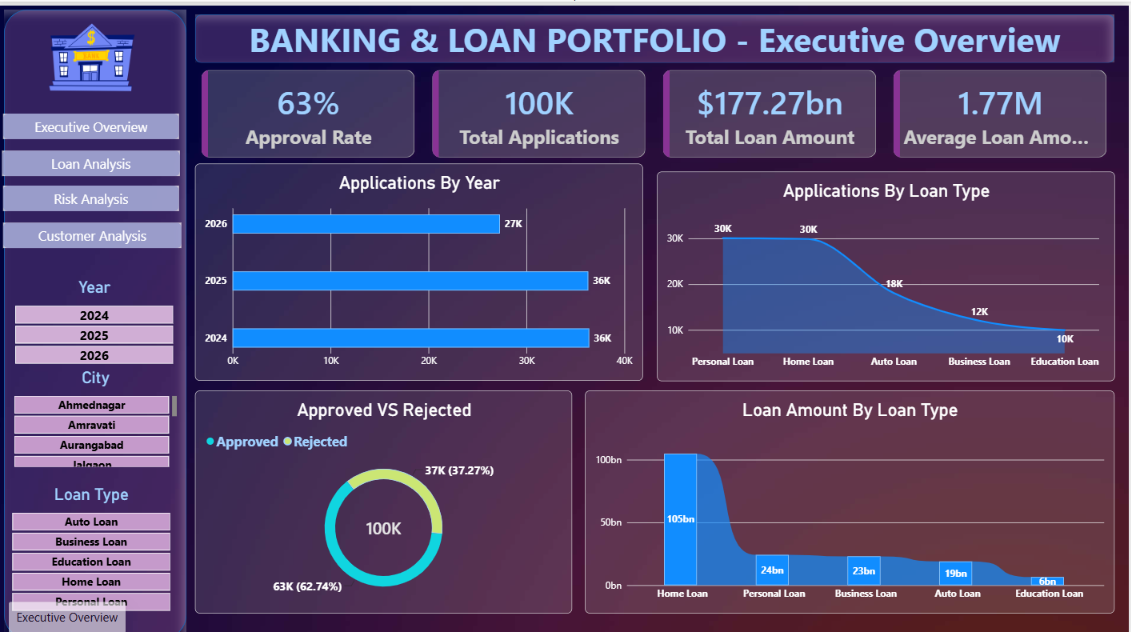

Layout of this report page (visuals, bound fields, positions):
{"tool":"powerbi","page":{"name":"Executive Overview","canvas":[1920,1080],"ordinal":0},"visuals":[{"type":"cardVisual","fields":{"Data":["banking_loan_db loan_applications.Approval Rate","banking_loan_db loan_applications.Total Applications","banking_loan_db loan_applications.Total Loan Amount","banking_loan_db loan_applications.Average Loan Amount"]},"box":[336.8,97.8,1558.7,170.7],"z":0},{"type":"shape","box":[13.3,6.7,309.3,1066.5],"z":1000},{"type":"barChart","title":"Applications  By Year","fields":{"Category":["banking_loan_db loan_applications.application_Year"],"Y":["banking_loan_db loan_applications.Total Applications"]},"box":[337.8,267.6,759,368.1],"z":2000},{"type":"ribbonChart","title":"Loan Amount By Loan Type ","fields":{"Category":["banking_loan_db loan_applications.loan_type"],"Y":["banking_loan_db loan_applications.Total Loan Amount"]},"box":[998.1,652.8,897.6,377.6],"z":3000},{"type":"donutChart","title":"Approved VS  Rejected ","fields":{"Category":["banking_loan_db loan_applications.approval_status"],"Y":["banking_loan_db loan_applications.Total Applications"]},"box":[337.8,652.8,639.5,377.6],"z":4000},{"type":"areaChart","title":"Applications  By Loan Type","fields":{"Category":["banking_loan_db loan_applications.loan_type"],"Y":["banking_loan_db loan_applications.Total Applications"]},"box":[1119.6,280.8,776.1,354.9],"z":5000},{"type":"listSlicer","title":"Loan Type ","fields":{"Values":["banking_loan_db loan_applications.loan_type"]},"box":[12.5,797.5,299.8,261.9],"z":6000},{"type":"listSlicer","fields":{"Values":["banking_loan_db loan_applications.application_date.Variation.Date Hierarchy.Year"]},"box":[17.5,447.5,299.8,187.9],"z":7000},{"type":"listSlicer","title":"City","fields":{"Values":["banking_loan_db loan_applications.city"]},"box":[15,600,307.4,197.4],"z":8000},{"type":"actionButton","box":[10,245,301.7,43.3],"z":9000},{"type":"actionButton","box":[12.5,367.5,302.6,43.2],"z":10000},{"type":"actionButton","box":[12.5,305,298.3,43.3],"z":11000},{"type":"actionButton","box":[12.5,182.5,298.3,43.3],"z":12000},{"type":"shape","box":[336.8,15.9,1558.7,81.9],"z":13000},{"type":"image","box":[52.5,15,220,145],"z":13001}]}

Visuals, with their boxes in screenshot pixels (x1, y1, x2, y2), scaled from the page's 1920x1080 canvas onto the 1131x632 screenshot:
cardVisual - banking_loan_db loan_applications.Approval Rate x banking_loan_db loan_applications.Total Applications: {"x1": 198, "y1": 57, "x2": 1117, "y2": 157}
shape: {"x1": 8, "y1": 4, "x2": 190, "y2": 628}
"Applications  By Year" barChart: {"x1": 199, "y1": 157, "x2": 646, "y2": 372}
"Loan Amount By Loan Type " ribbonChart: {"x1": 588, "y1": 382, "x2": 1117, "y2": 603}
"Approved VS  Rejected " donutChart: {"x1": 199, "y1": 382, "x2": 576, "y2": 603}
"Applications  By Loan Type" areaChart: {"x1": 660, "y1": 164, "x2": 1117, "y2": 372}
"Loan Type " listSlicer: {"x1": 7, "y1": 467, "x2": 184, "y2": 620}
listSlicer - banking_loan_db loan_applications.application_date.Variation.Date Hierarchy.Year: {"x1": 10, "y1": 262, "x2": 187, "y2": 372}
"City" listSlicer: {"x1": 9, "y1": 351, "x2": 190, "y2": 467}
actionButton: {"x1": 6, "y1": 143, "x2": 184, "y2": 169}
actionButton: {"x1": 7, "y1": 215, "x2": 186, "y2": 240}
actionButton: {"x1": 7, "y1": 178, "x2": 183, "y2": 204}
actionButton: {"x1": 7, "y1": 107, "x2": 183, "y2": 132}
shape: {"x1": 198, "y1": 9, "x2": 1117, "y2": 57}
image: {"x1": 31, "y1": 9, "x2": 161, "y2": 94}
